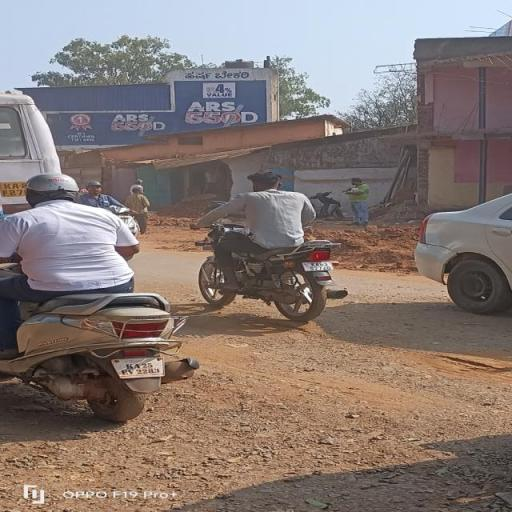bike: (187, 166, 353, 324)
numberplate: (304, 258, 335, 273)
withouthelmet: (250, 170, 284, 191)
